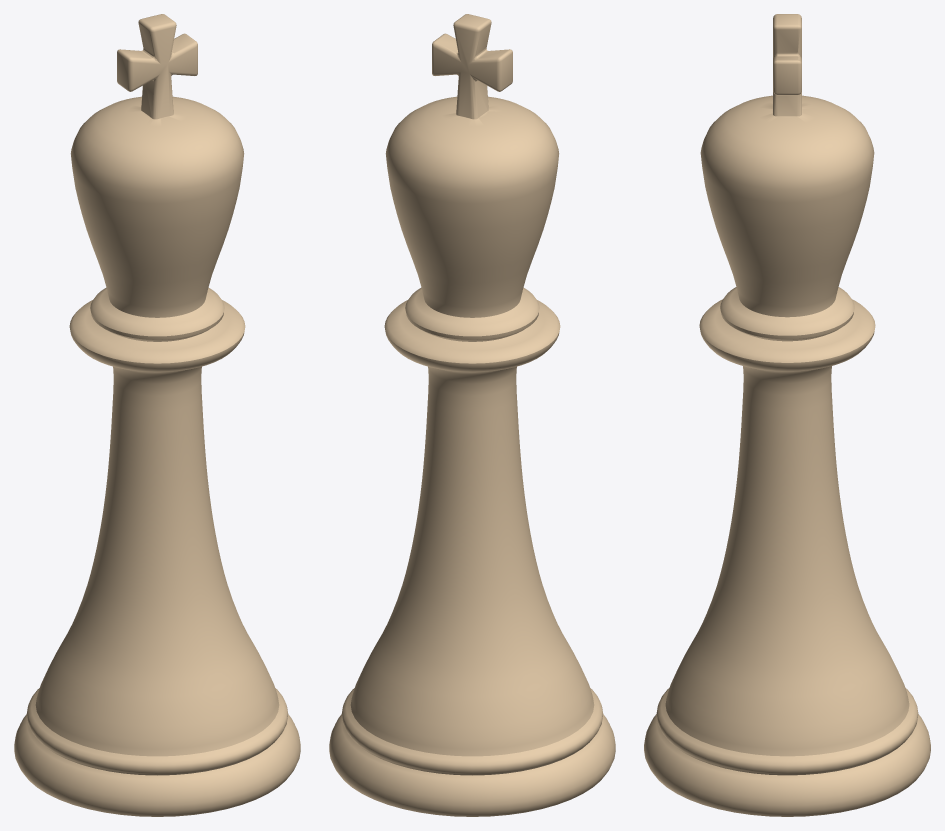
Rendered from white-king.glb.
3 views of the same model, side by side, from view 1: azimuth 30°, elevation 25°; view 2: azimuth 150°, elevation 25°; view 3: azimuth 270°, elevation 25° (orthographic).
Parts seen in each view (by area): view 1: white-king.001; view 2: white-king.001; view 3: white-king.001.
Boxes of the visible parts, bbox=[...] form: white-king.001: bbox=[14, 14, 300, 816]; white-king.001: bbox=[329, 14, 615, 816]; white-king.001: bbox=[644, 14, 930, 816].
Size of the model in its own units: 0.6142 by 1.75 by 0.6142.
